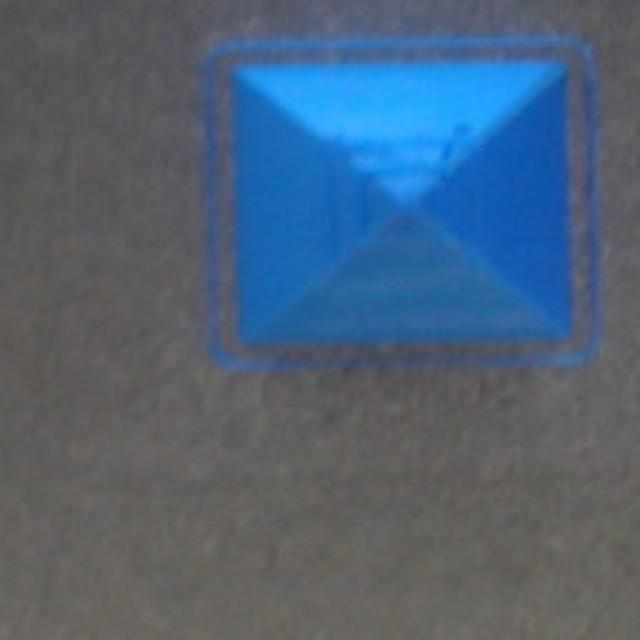mistake: (217, 42, 569, 335)
